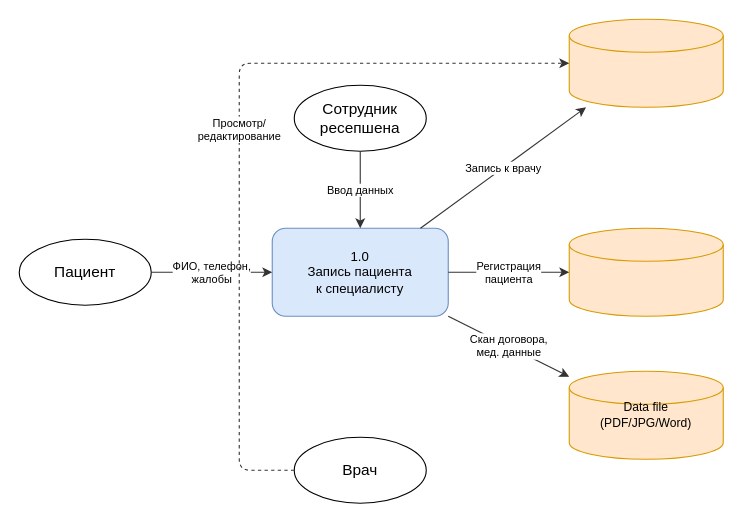
The diagram is 743 pixels wide and 523 high, and some of its shapes have lost their labels. The centre of each missing label's shape, as x and y in pixels:
"Journal-Doctor-FIO.xls" belongs at point (645, 62).
"Patients.xls" belongs at point (645, 271).
